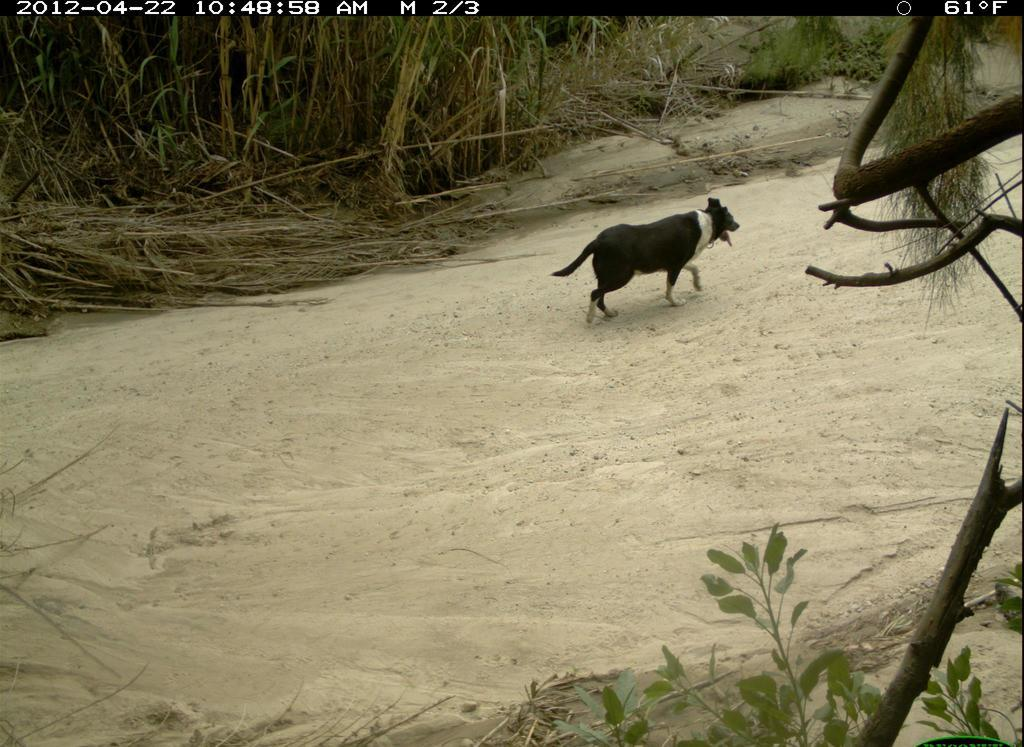dog: (550, 187, 745, 341)
